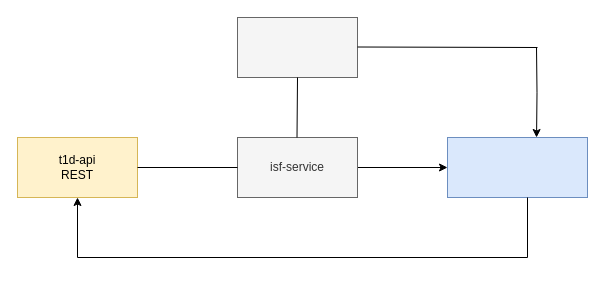
This 605x283 diagram has some shape labels left out. Here are the shapes that lost their labels. From the top down, the centre of each, then its label:
At [297,47]: "cr-service".
At [517,167]: "recommendation-service".
